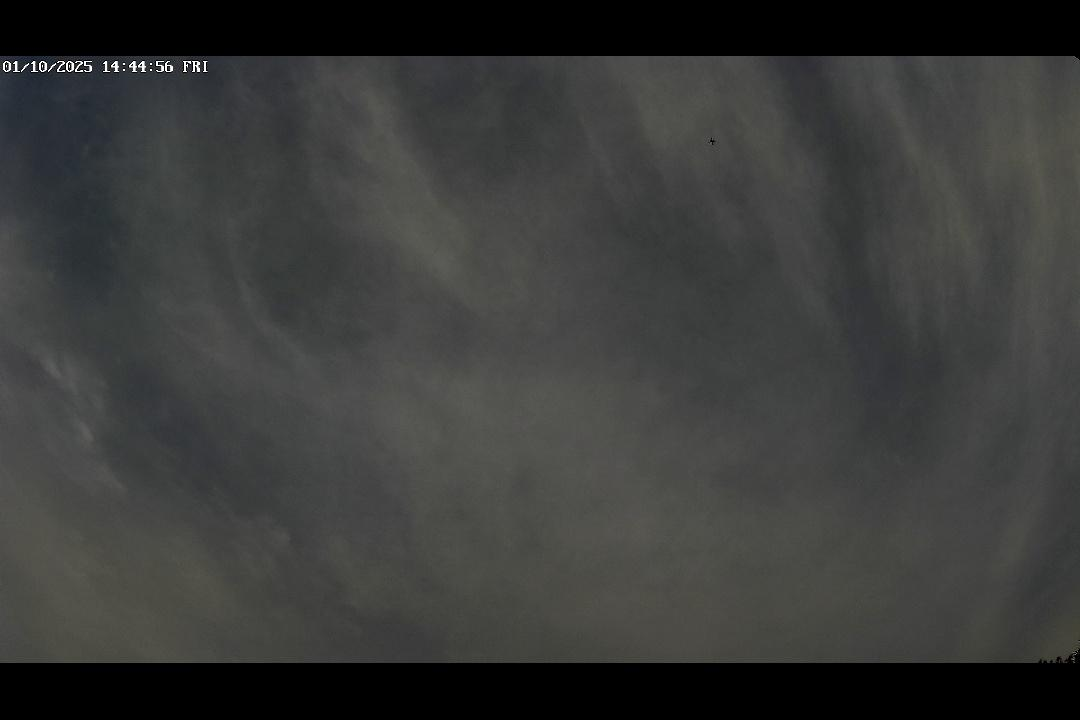Plane: (705, 134, 720, 147)
